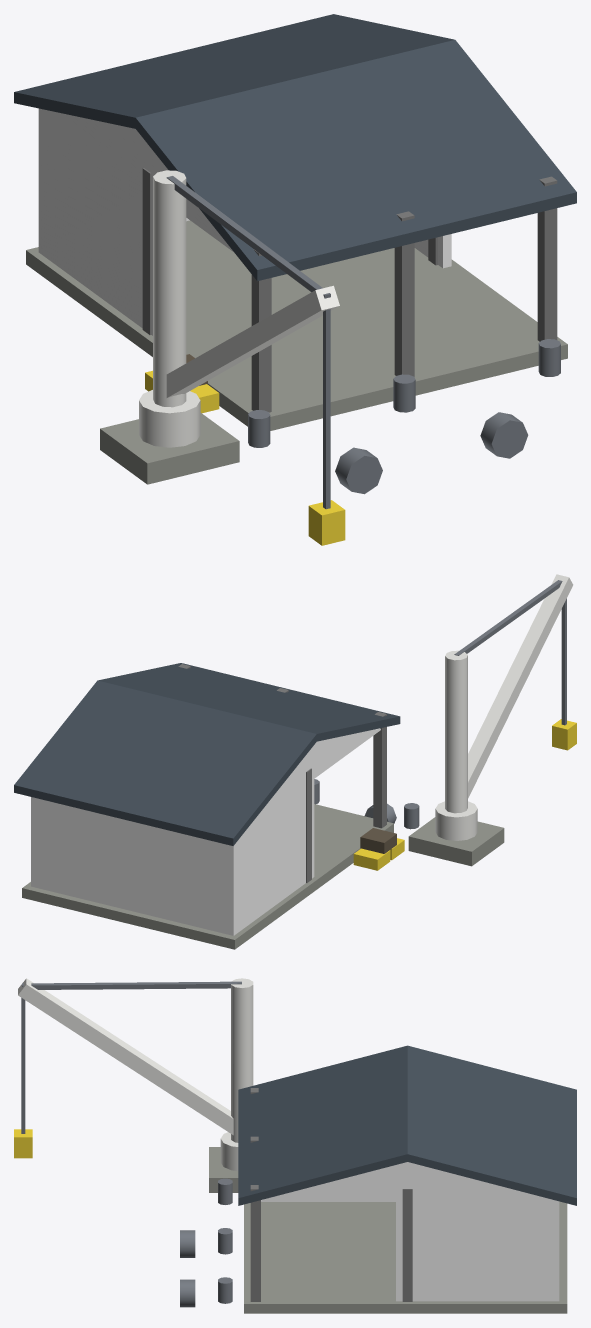
Rendered from port_crane.fbx.
The picture shows the model from 3 angles, top to bottom: view 1: azimuth 30°, elevation 25°; view 2: azimuth 150°, elevation 25°; view 3: azimuth 270°, elevation 25°; orthographic projection. The views are drawn at different scales.
Visible parts, largest first — view 1: a1001_0_port_crane; view 2: a1001_0_port_crane; view 3: a1001_0_port_crane.
Boxes of the visible parts, bbox=[...] form: a1001_0_port_crane: bbox=[14, 14, 576, 545]; a1001_0_port_crane: bbox=[14, 574, 576, 949]; a1001_0_port_crane: bbox=[14, 978, 576, 1313].
Bounding box in the file's own units: 9.3 × 6.38 × 14.46.
